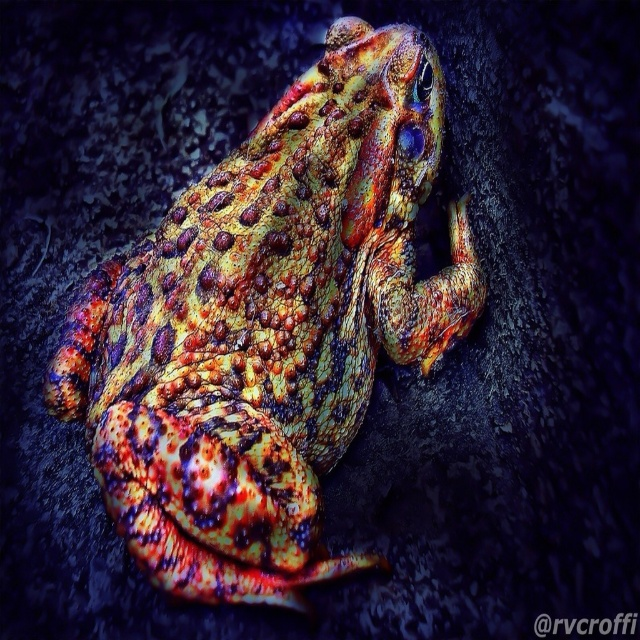Frog: (40, 13, 489, 609)
